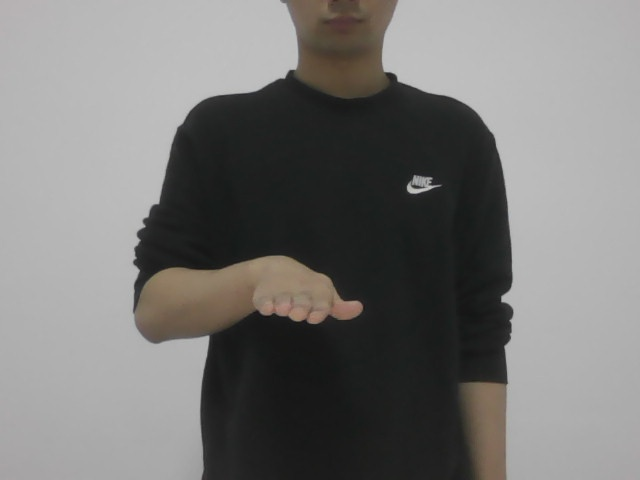slow: (252, 248, 371, 338)
